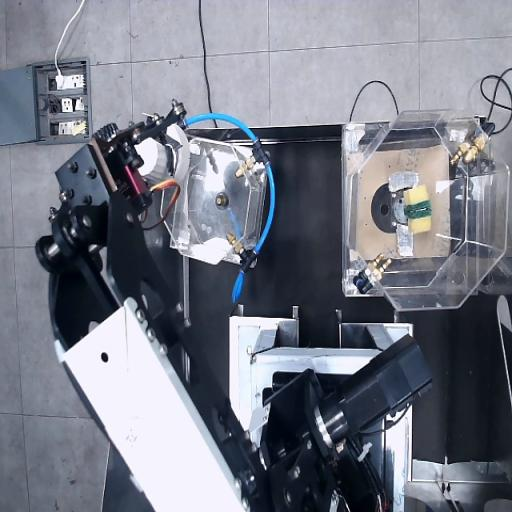cup in rinse station: (137, 125, 190, 186)
